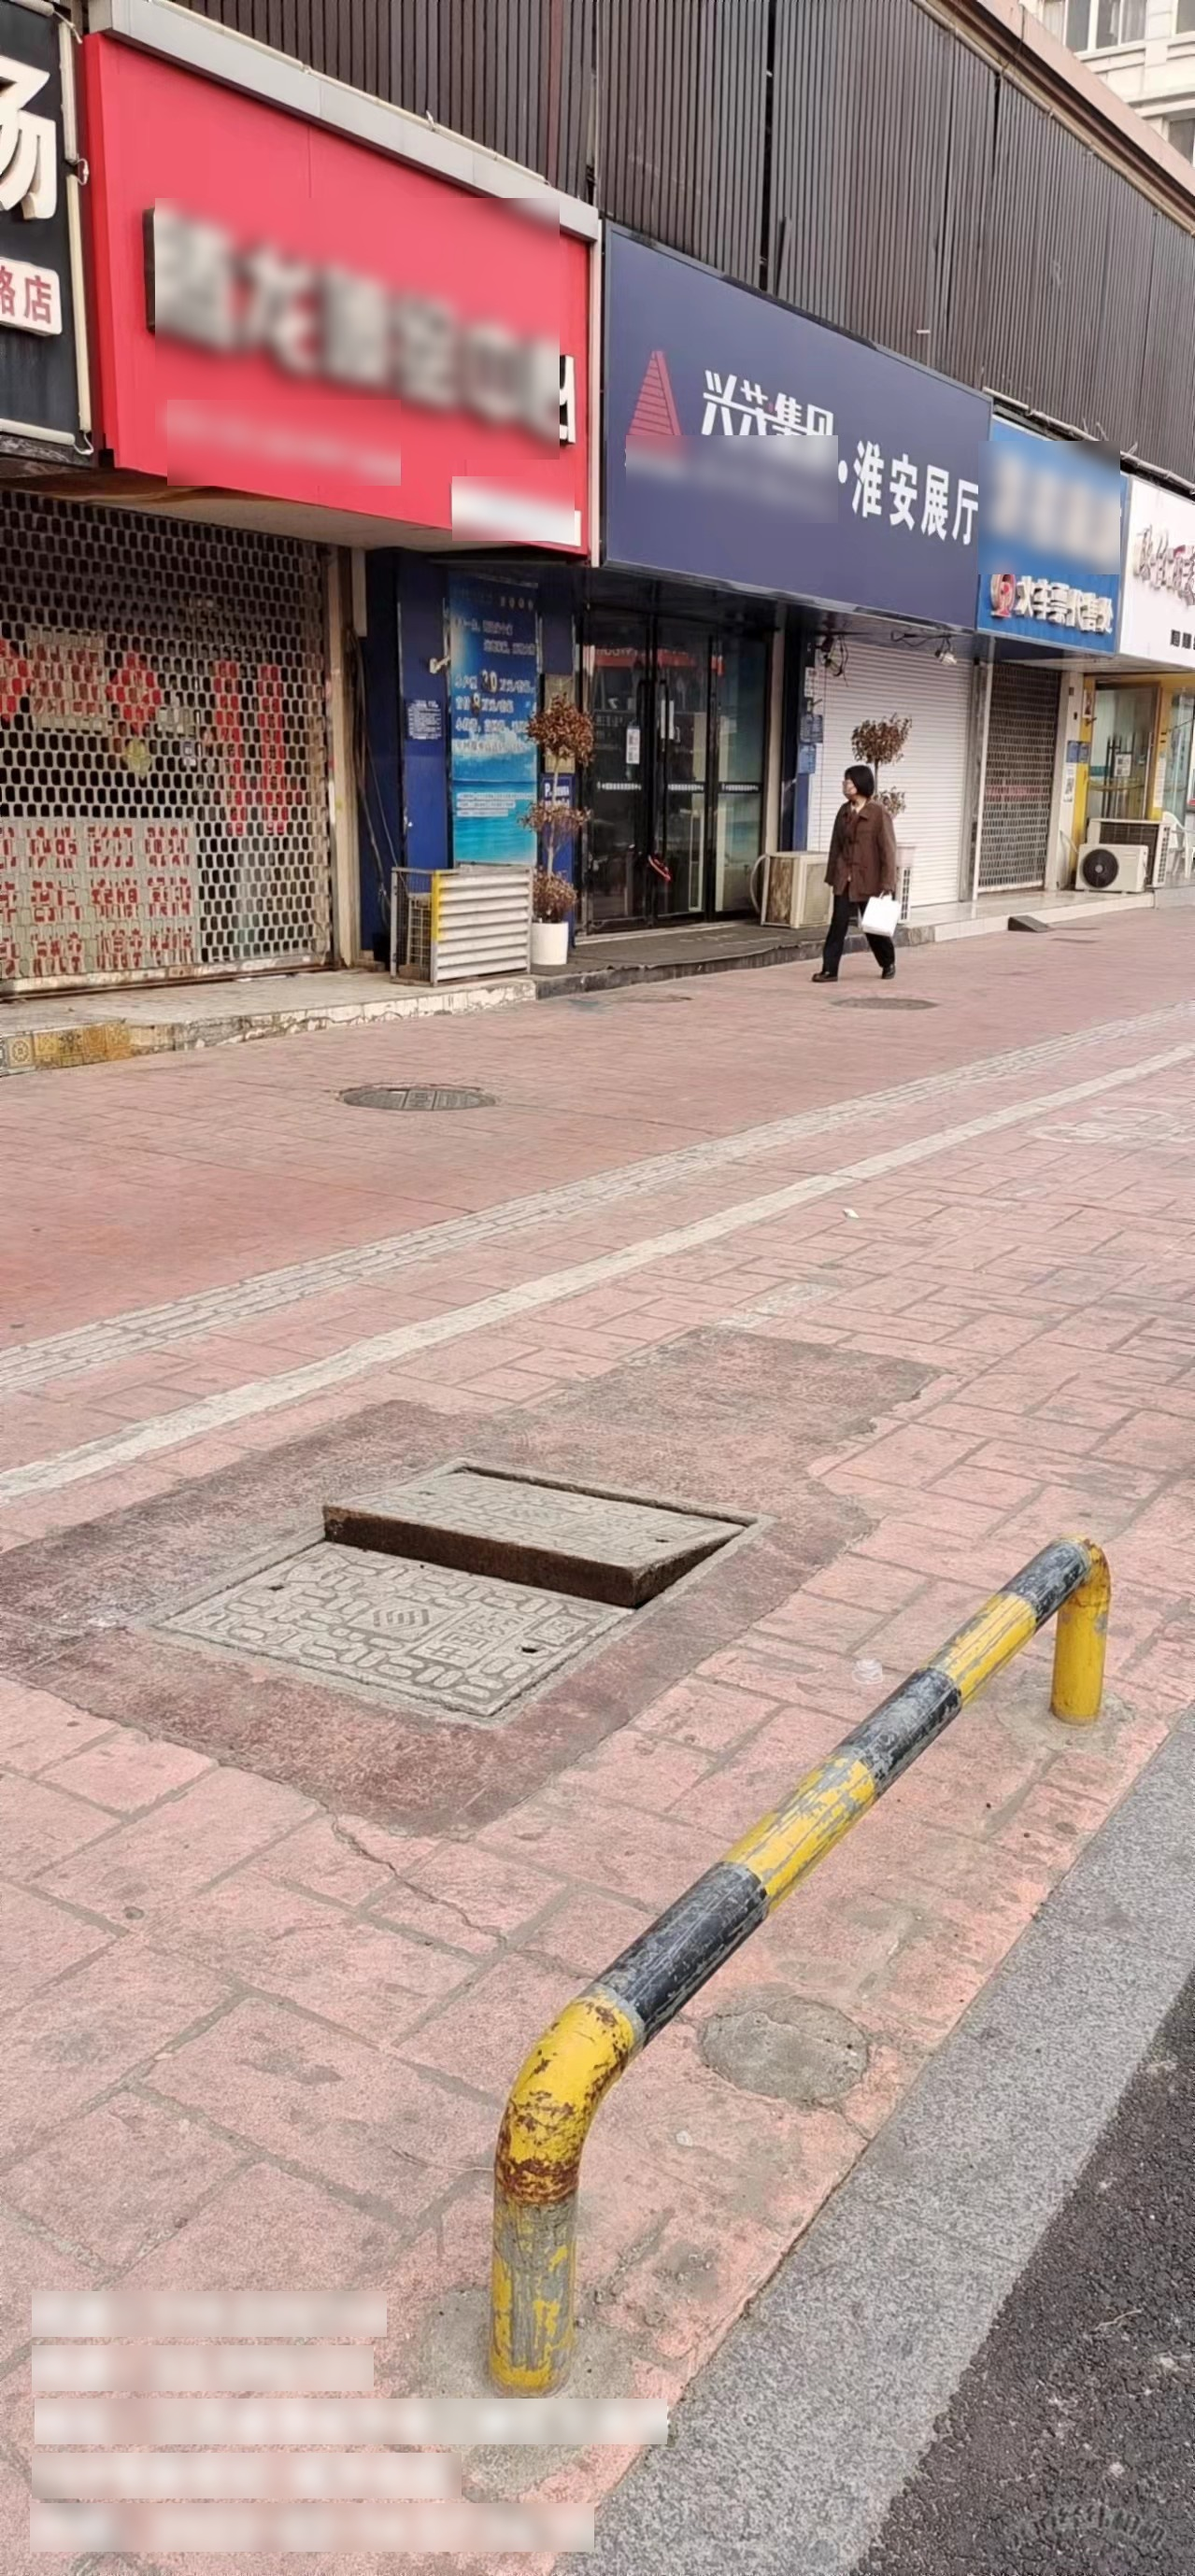uncovered: (140, 1454, 763, 1745)
